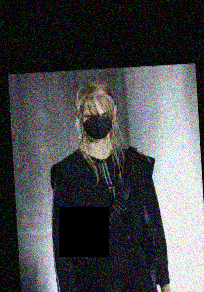with_mask: (80, 108, 115, 140)
